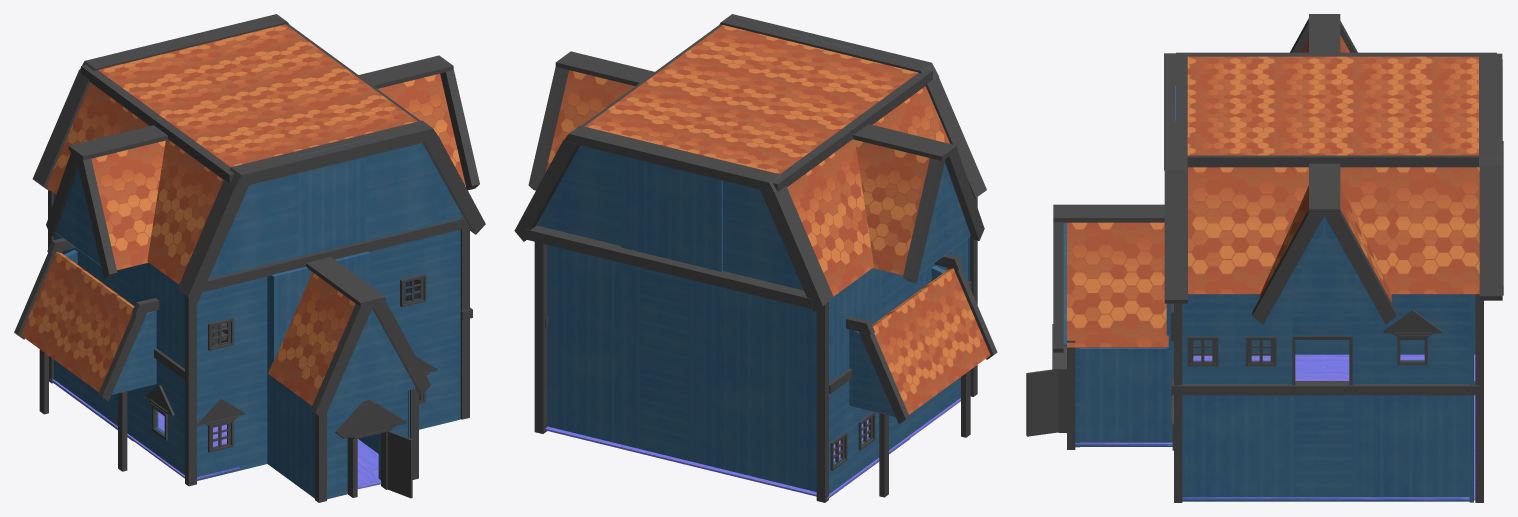
The model's file is LargeHouse 1.fbx.
The picture shows the model from 3 angles, left to right: view 1: azimuth 30°, elevation 25°; view 2: azimuth 150°, elevation 25°; view 3: azimuth 270°, elevation 25°; orthographic projection. The views are drawn at different scales.
Parts seen in each view (by area): view 1: Plane.184; view 2: Plane.184; view 3: Plane.184.
Part boxes in pixels (box(x1,y1,x2,y2)): Plane.184: box(14, 14, 485, 502); Plane.184: box(514, 14, 997, 502); Plane.184: box(1026, 14, 1503, 502).
Size of the model in its own units: 228 by 176 by 229.
